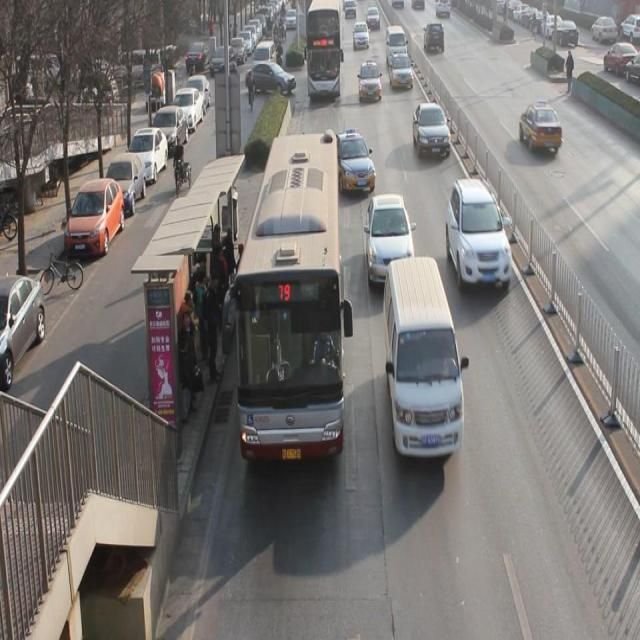car: (446, 182, 514, 296), (367, 196, 415, 282), (333, 128, 377, 192), (520, 102, 562, 159), (412, 105, 452, 159), (358, 61, 382, 100), (389, 56, 413, 92), (422, 25, 445, 52), (352, 24, 368, 48)
truck: (382, 263, 464, 461), (385, 24, 408, 64)
van: (232, 134, 342, 460), (305, 2, 339, 98)
